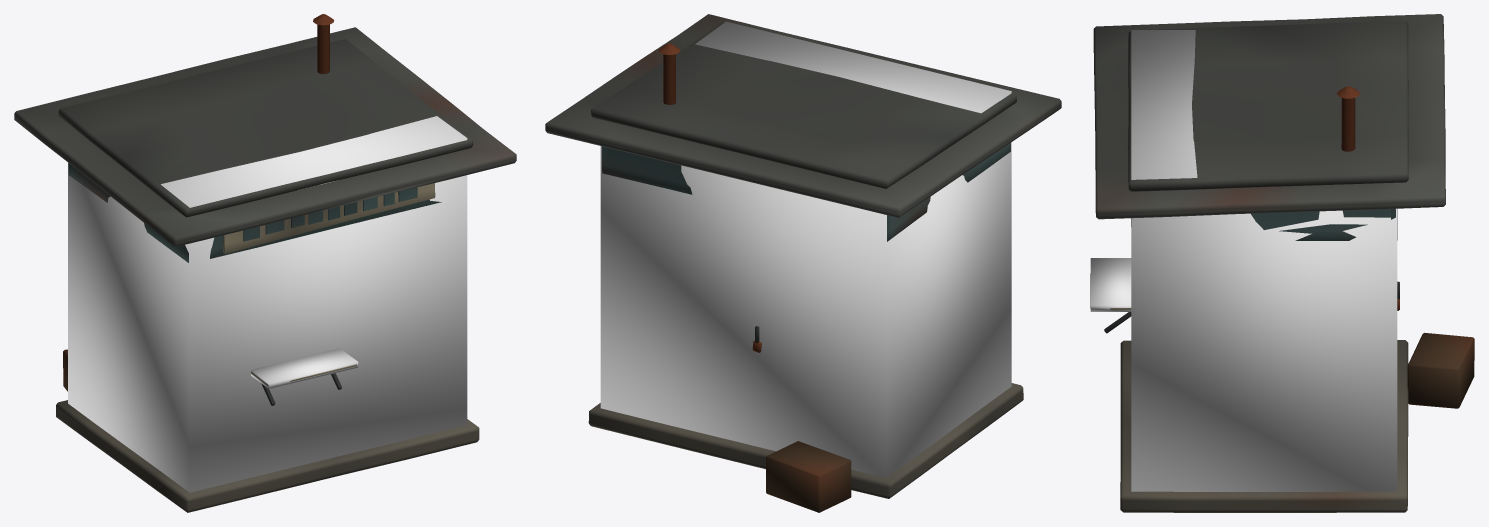
File: quiosco.glb
3 renders of one model, left to right at view 1: azimuth 30°, elevation 25°; view 2: azimuth 150°, elevation 25°; view 3: azimuth 270°, elevation 25°, orthographic. The views are drawn at different scales.
Visible parts, largest first — view 1: quiosco-colcaja, quiosco, quiosco_repisa-colcaja; view 2: quiosco-colcaja, quiosco; view 3: quiosco-colcaja, quiosco, quiosco_repisa-colcaja.
Part boxes in pixels (left/top/right/bottom): quiosco-colcaja: left=68, top=116, right=467, bottom=492; quiosco: left=14, top=14, right=516, bottom=512; quiosco_repisa-colcaja: left=251, top=348, right=358, bottom=389; quiosco-colcaja: left=600, top=21, right=1011, bottom=477; quiosco: left=545, top=14, right=1061, bottom=512; quiosco-colcaja: left=1131, top=30, right=1397, bottom=491; quiosco: left=1090, top=14, right=1474, bottom=512; quiosco_repisa-colcaja: left=1090, top=258, right=1131, bottom=311.
Bounding box in the file's own units: 3.12 × 3.14 × 2.74.
